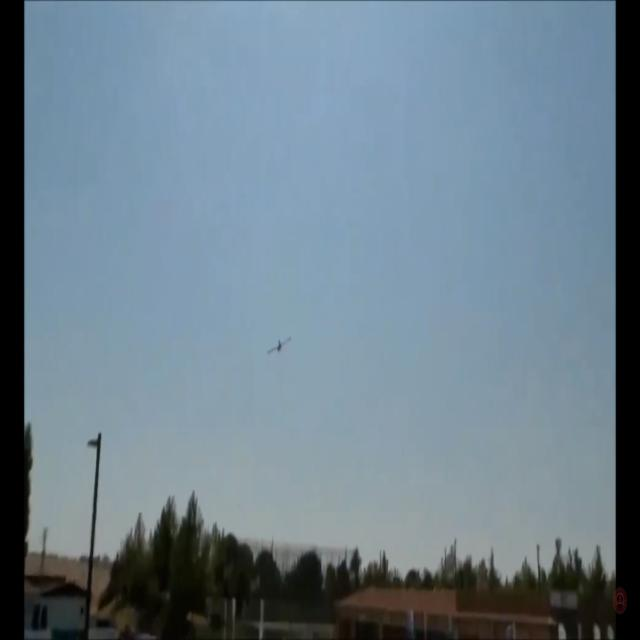iha: (266, 336, 292, 355)
